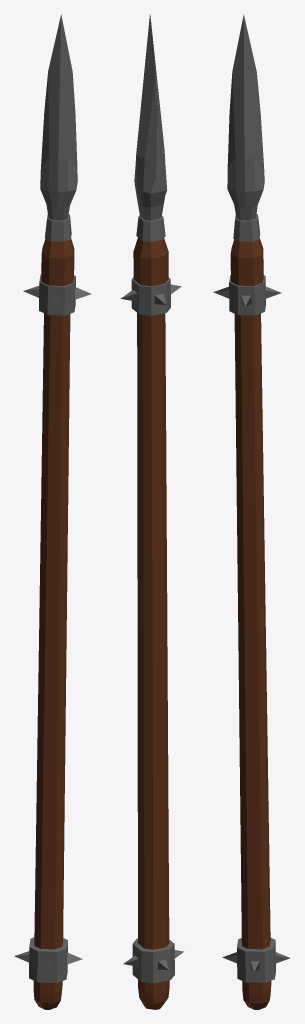
File: iron_spear.glb
3 renders of one model, left to right at view 1: azimuth 90°, elevation 25°; view 2: azimuth 210°, elevation 25°; view 3: azimuth 270°, elevation 25°, orthographic.
Parts seen in each view (by area): view 1: Cube; view 2: Cube; view 3: Cube.
Boxes of the visible parts, x1,y1,x2,y2 form: Cube: [14, 14, 91, 1009]; Cube: [121, 14, 183, 1009]; Cube: [213, 14, 290, 1009].
Size of the model in its own units: 31.81 by 490 by 34.8.
